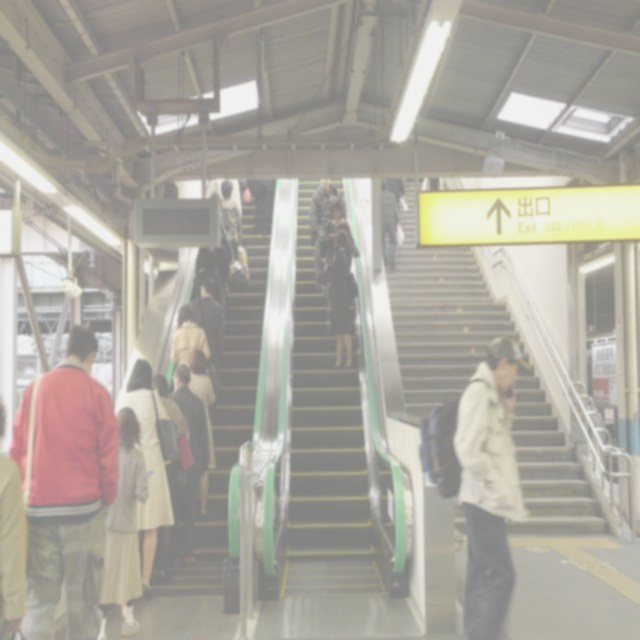pessoa: (5, 321, 124, 640), (451, 334, 533, 640), (114, 356, 177, 600), (95, 406, 151, 640), (152, 371, 196, 585), (166, 362, 211, 567), (0, 394, 29, 640), (318, 226, 361, 372), (187, 346, 217, 522), (308, 177, 348, 296), (188, 276, 226, 374), (198, 229, 232, 320), (220, 179, 250, 281), (190, 248, 228, 323), (169, 304, 211, 371), (323, 197, 361, 261), (326, 220, 353, 306), (380, 178, 405, 270), (209, 192, 235, 266), (248, 178, 278, 236), (233, 174, 251, 219), (386, 178, 406, 216), (428, 170, 441, 196)
